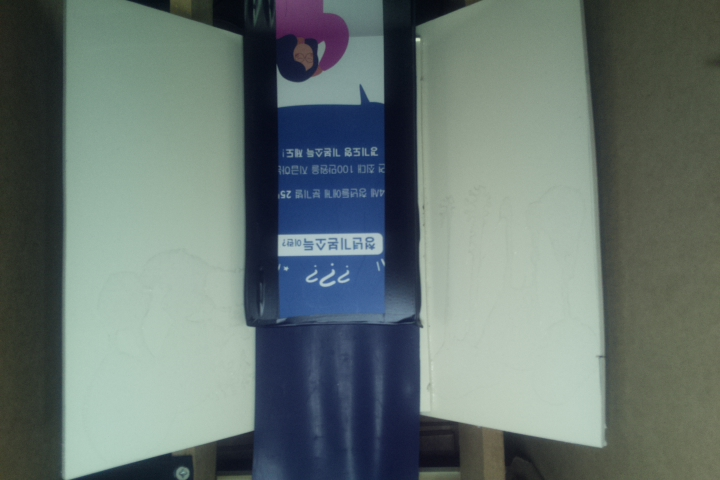book: (246, 1, 421, 329)
